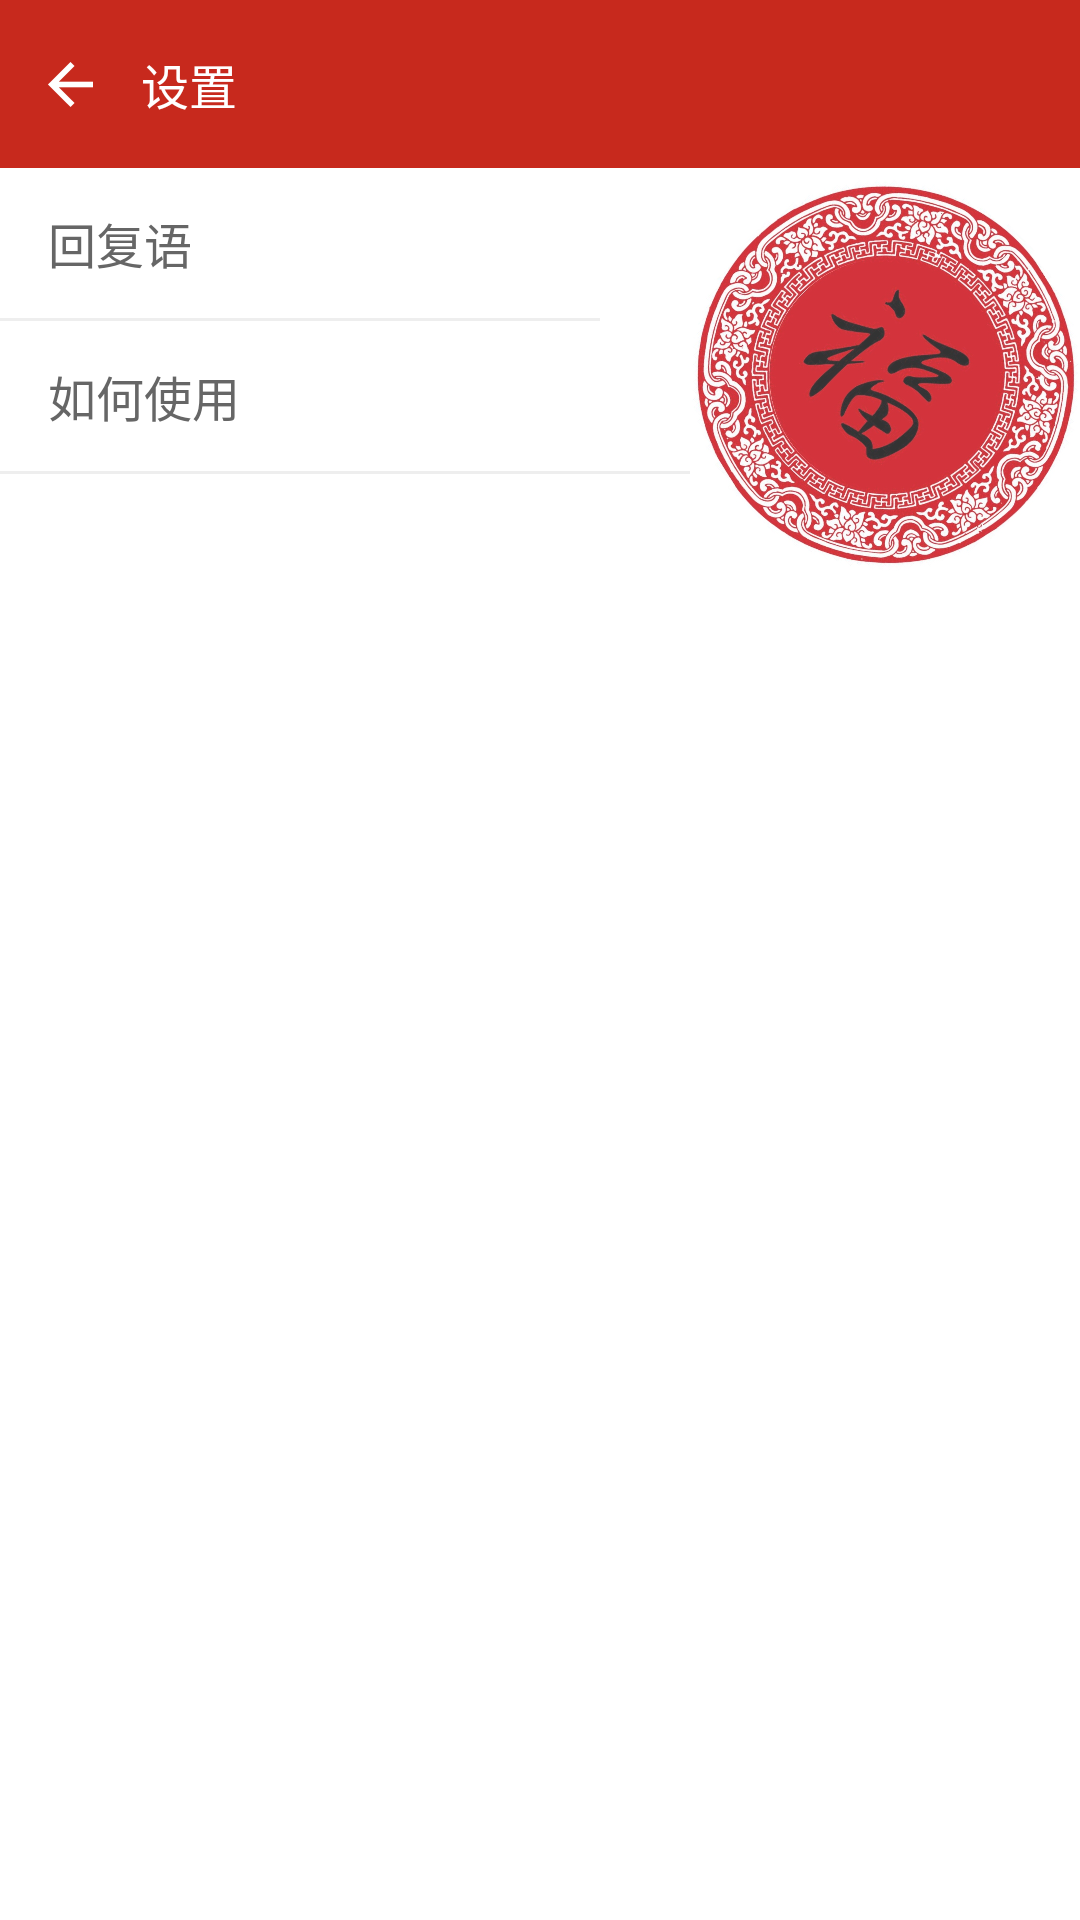

Icon bounding boxes for this 1080w x 1920h phone screenshot, format (x1, y1, x2, y2):
back: (48, 62, 93, 107)
